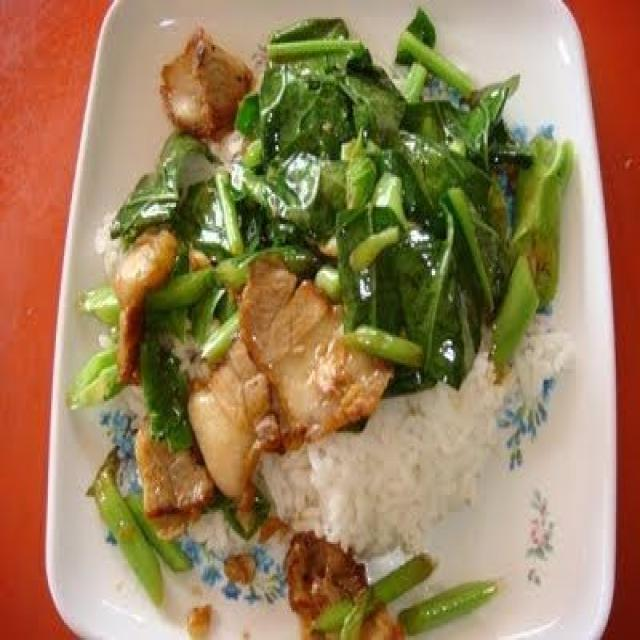cac loai rau cu: (280, 23, 570, 382), (145, 130, 285, 335), (90, 462, 189, 607), (376, 552, 508, 640)
com: (268, 314, 576, 562)
com chien cai xoan: (66, 0, 576, 640)
thit heo: (235, 242, 396, 457), (189, 351, 289, 521), (282, 527, 412, 640), (105, 223, 185, 387), (128, 404, 225, 524), (161, 32, 265, 140)
